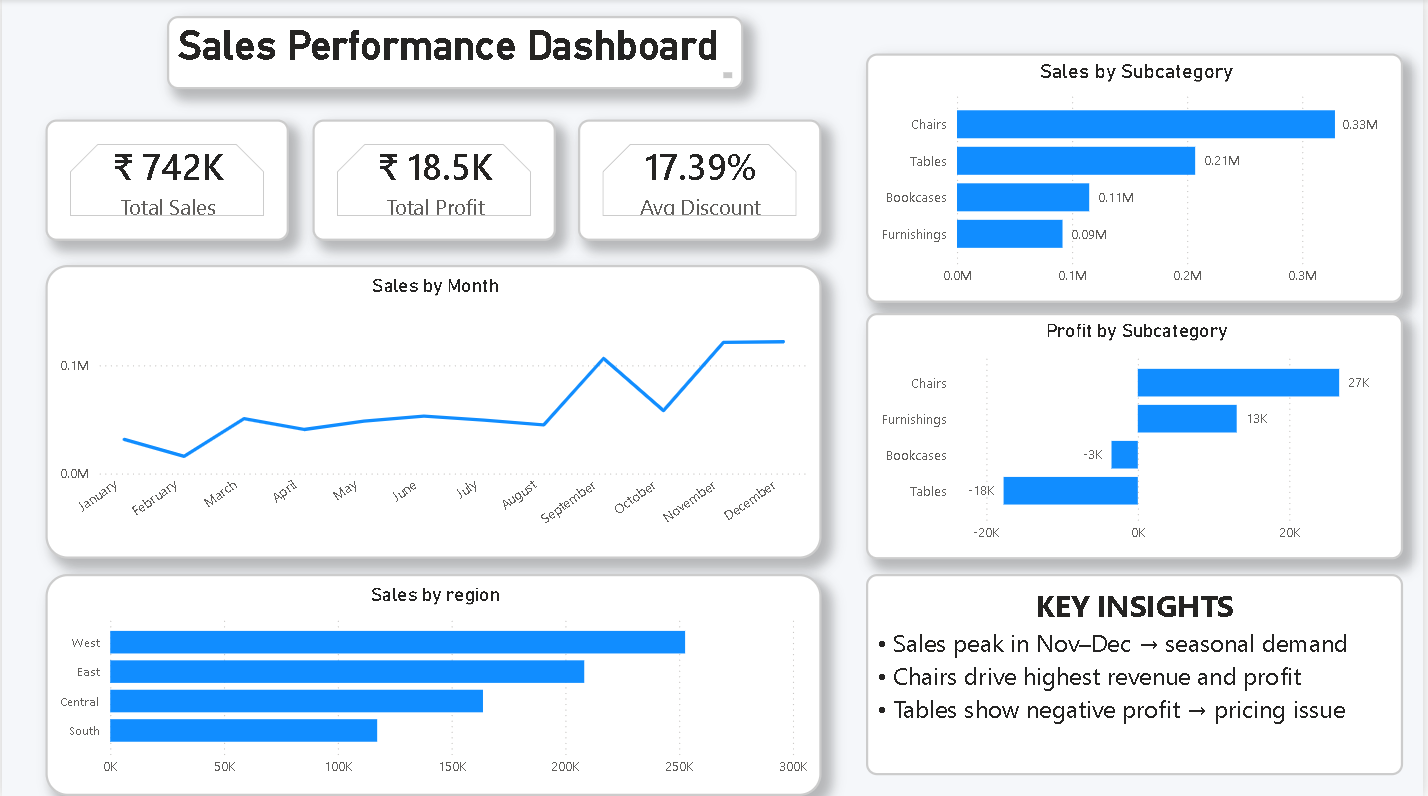

The page's visual inventory and layout, read from the dashboard file:
{"tool":"powerbi","page":{"name":"Page 1","canvas":[1280,720],"ordinal":0},"visuals":[{"type":"textbox","title":"Sales Performance Dashboard","box":[148.7,16.2,519.1,66.2],"z":0},{"type":"cardVisual","fields":{"Data":["Sum(final_sales_data.sales)"]},"box":[39.7,109.6,219.2,109.6],"z":1000},{"type":"cardVisual","fields":{"Data":["Sum(final_sales_data.profit)"]},"box":[279.7,109.6,219.2,109.6],"z":2000},{"type":"cardVisual","fields":{"Data":["Avg(final_sales_data.discount)"]},"box":[519.7,109.6,219.2,109.6],"z":3000},{"type":"lineChart","title":"Sales by Month","fields":{"Category":["final_sales_data.order_date.Variation.Date Hierarchy.Month"],"Y":["Sum(final_sales_data.sales)"]},"box":[39.7,240,699.2,264.6],"z":4000},{"type":"clusteredBarChart","title":"Sales by Subcategory","fields":{"Category":["final_sales_data.subcategory"],"Y":["Sum(final_sales_data.sales)"]},"box":[778.6,50,483.9,224.4],"z":5000},{"type":"clusteredBarChart","title":"Profit by Subcategory","fields":{"Y":["Sum(final_sales_data.profit)"],"Category":["final_sales_data.subcategory"]},"box":[778.6,283.9,483.9,221.7],"z":5001},{"type":"clusteredBarChart","title":"Sales by region","fields":{"Category":["final_sales_data.region"],"Y":["Sum(final_sales_data.sales)"]},"box":[39.7,519.7,699.2,200.3],"z":5002},{"type":"textbox","box":[778.6,519.1,483.9,181.1],"z":5003}]}

Visuals, with their boxes in screenshot pixels (x1, y1, x2, y2), scaled from the page's 1280x720 canvas onto the 1428x796 screenshot:
"Sales Performance Dashboard" textbox: locate(166, 18, 745, 91)
cardVisual - Sum(final_sales_data.sales): locate(44, 121, 289, 242)
cardVisual - Sum(final_sales_data.profit): locate(312, 121, 557, 242)
cardVisual - Avg(final_sales_data.discount): locate(580, 121, 824, 242)
"Sales by Month" lineChart: locate(44, 265, 824, 558)
"Sales by Subcategory" clusteredBarChart: locate(869, 55, 1408, 303)
"Profit by Subcategory" clusteredBarChart: locate(869, 314, 1408, 559)
"Sales by region" clusteredBarChart: locate(44, 575, 824, 795)
textbox: locate(869, 574, 1408, 774)
